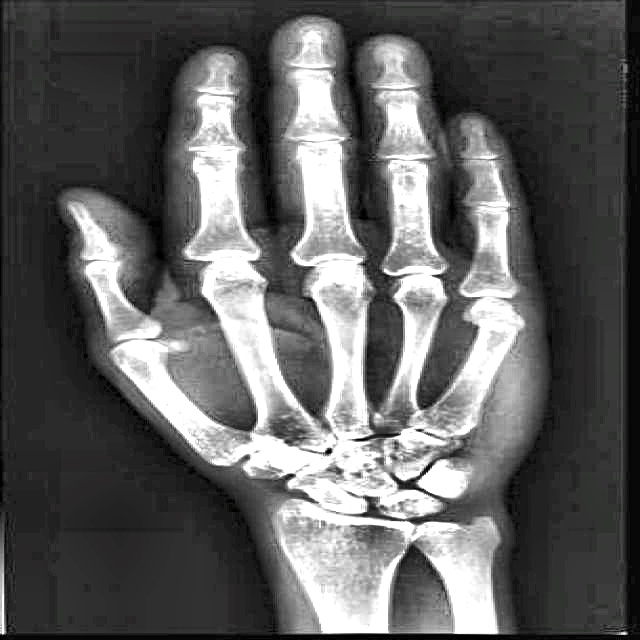Comminuted: (466, 305, 531, 350)
